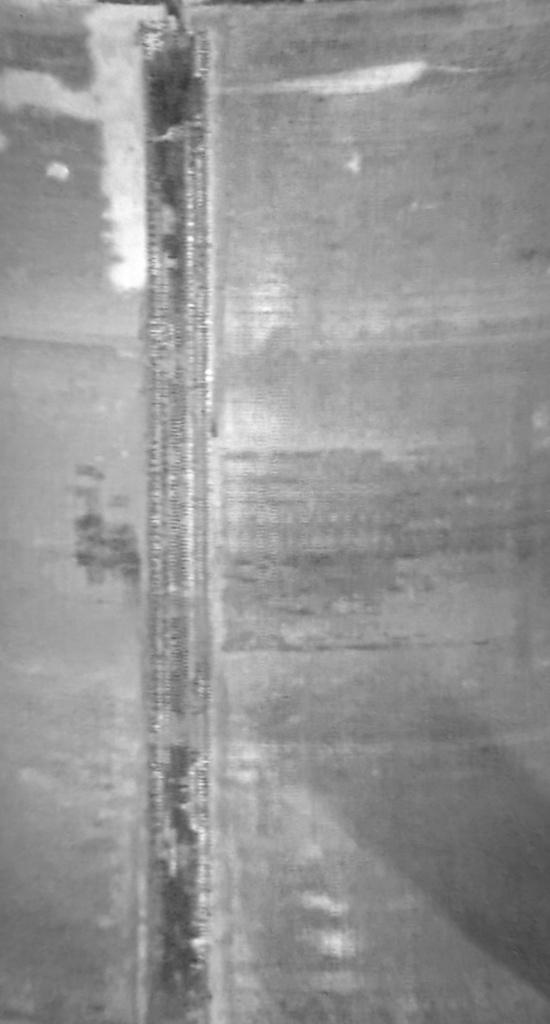splice: (129, 1, 226, 1021)
